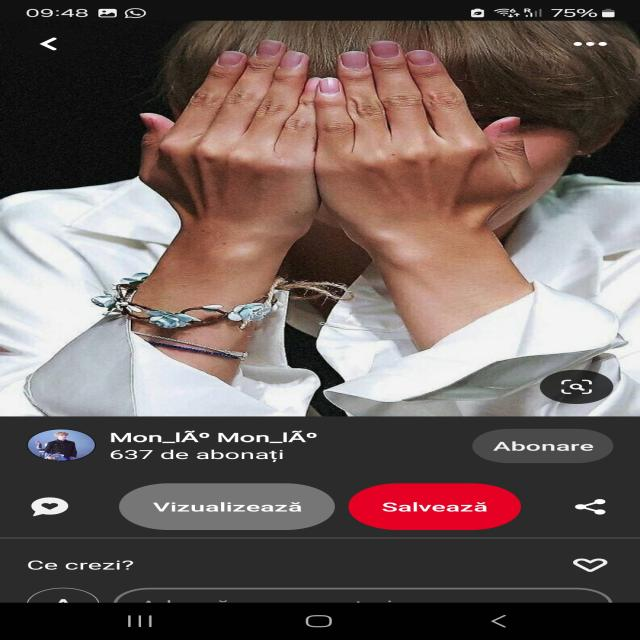hands: (106, 27, 580, 260)
